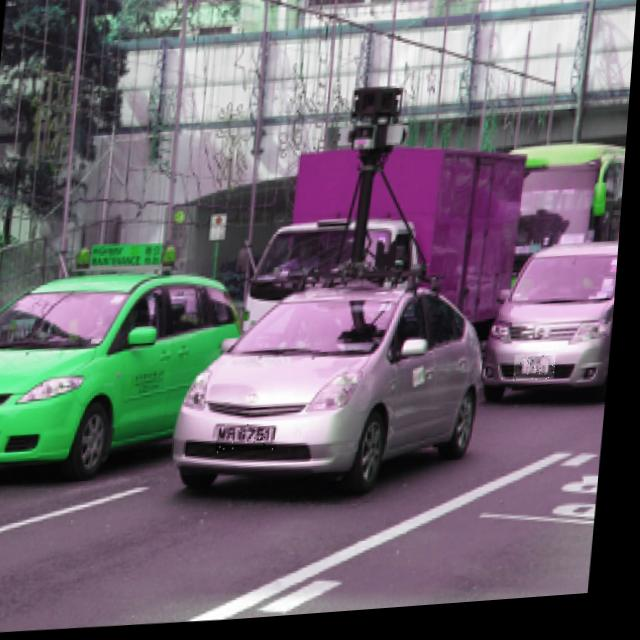license_plate: (222, 424, 285, 457), (519, 361, 561, 390), (0, 411, 2, 439)
